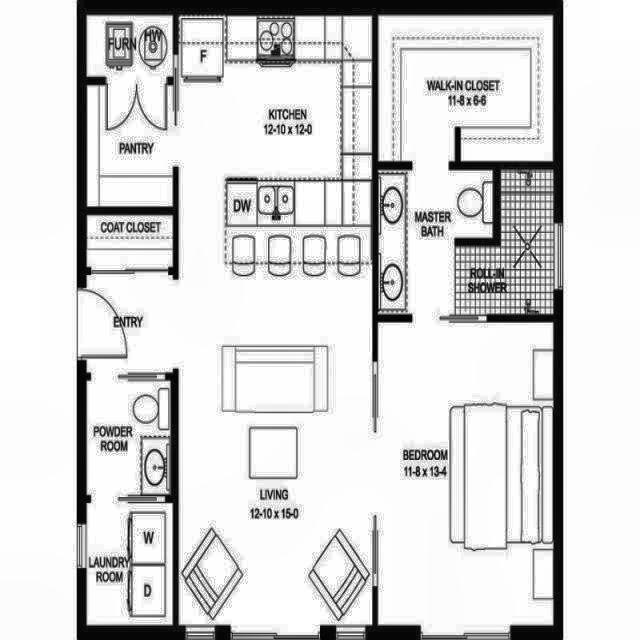room: (87, 17, 372, 625), (379, 322, 553, 624), (378, 169, 555, 315), (378, 15, 553, 162), (88, 503, 173, 624), (88, 85, 172, 206), (87, 381, 170, 495), (88, 16, 173, 77), (88, 215, 172, 266)
